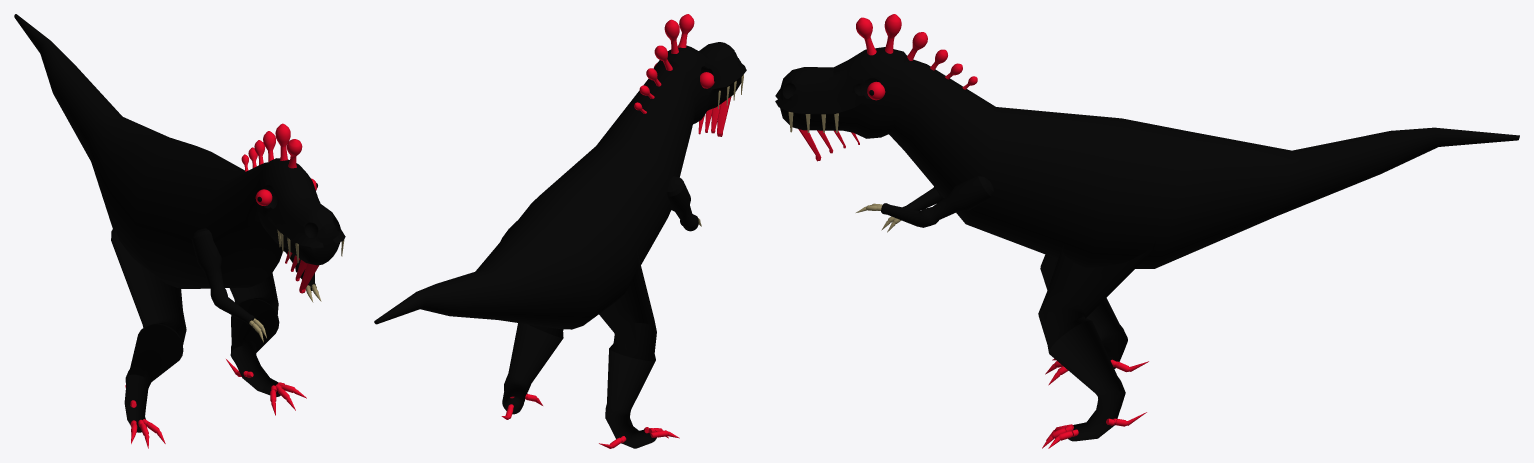
Rendered from DINOfbx.fbx.
3 views of the same model, side by side, from view 1: azimuth 30°, elevation 25°; view 2: azimuth 150°, elevation 25°; view 3: azimuth 270°, elevation 25° (orthographic). The views are drawn at different scales.
Visible parts, largest first — view 1: Cylinder.013, Cylinder.030, Cylinder.021, Cylinder.020, Cylinder.015; view 2: Cylinder.013, Cylinder.030, Cylinder.021, Cylinder.020; view 3: Cylinder.013, Cylinder.021, Cylinder.007, Cylinder.030.
Part boxes in pixels (<box>): Cylinder.013: <box>14,14,345,288</box>; Cylinder.030: <box>111,220,186,432</box>; Cylinder.021: <box>229,273,280,396</box>; Cylinder.020: <box>191,228,254,324</box>; Cylinder.015: <box>275,123,290,160</box>; Cylinder.013: <box>374,42,746,329</box>; Cylinder.030: <box>599,246,656,448</box>; Cylinder.021: <box>500,221,563,414</box>; Cylinder.020: <box>667,176,698,231</box>; Cylinder.013: <box>775,47,1519,268</box>; Cylinder.021: <box>1038,240,1156,441</box>; Cylinder.007: <box>881,176,993,227</box>; Cylinder.030: <box>1040,254,1127,368</box>.
Size of the model in its own units: 353 by 696 by 1184.
